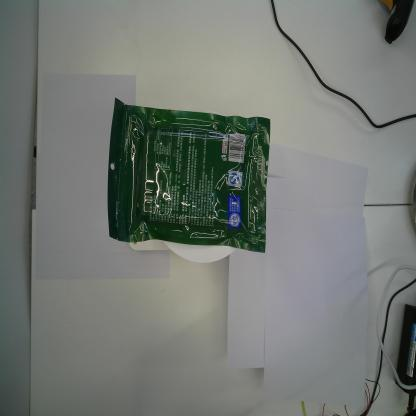Dried Food: (106, 97, 271, 254)
